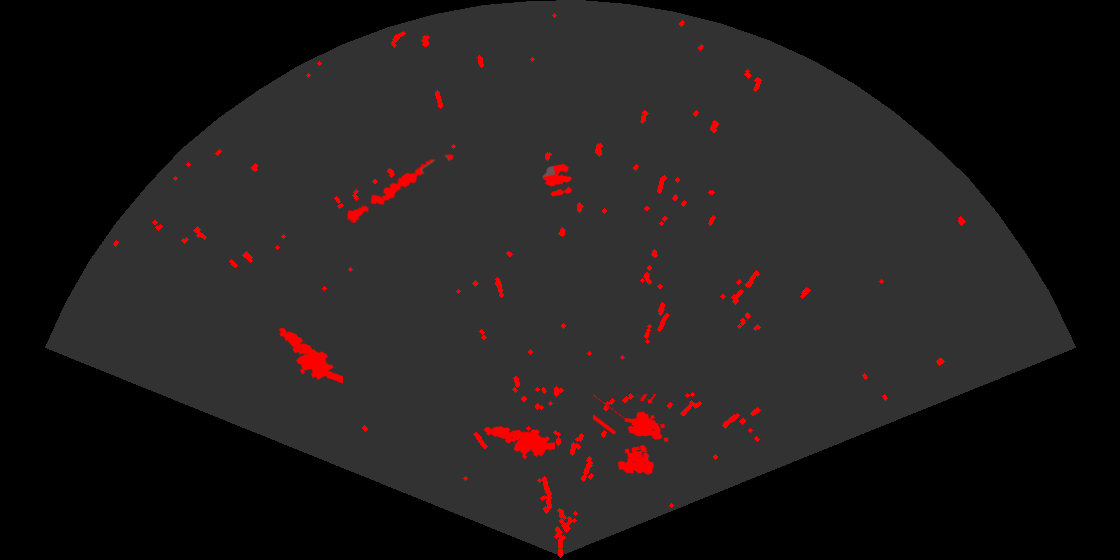ball: (541, 162, 574, 198)
cage: (593, 394, 670, 476)
chain: (345, 152, 455, 225)
frogman: (277, 326, 343, 385), (482, 425, 555, 461)
